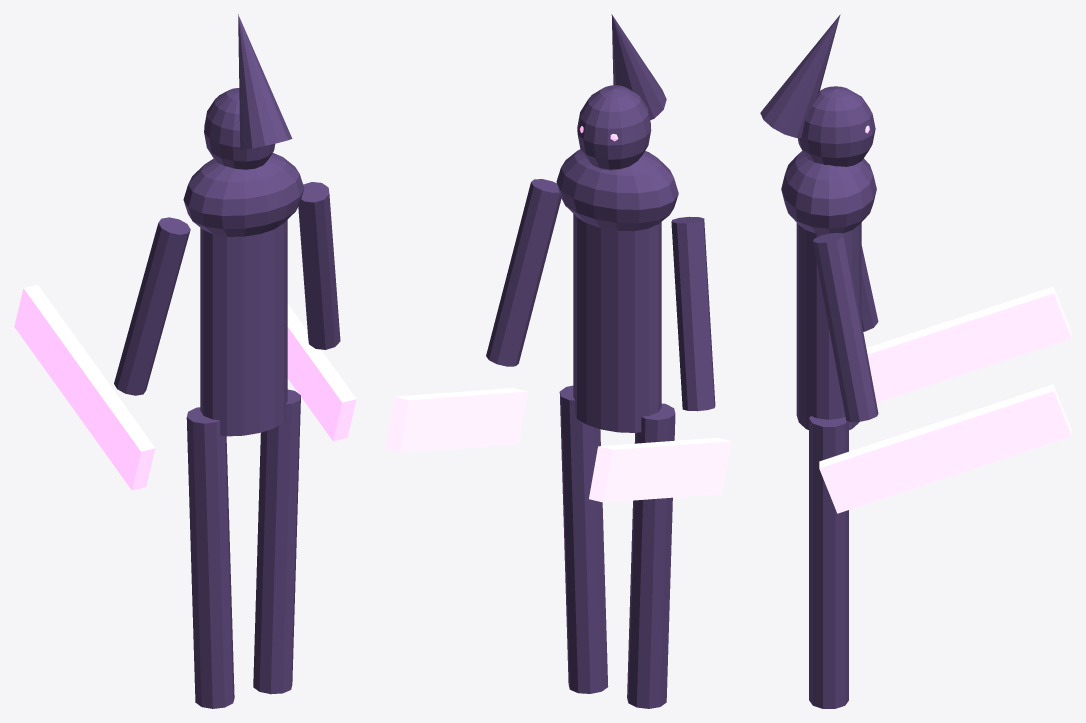
Rendered from vantablade.glb.
3 views of the same model, side by side, from view 1: azimuth 30°, elevation 25°; view 2: azimuth 150°, elevation 25°; view 3: azimuth 270°, elevation 25° (orthographic).
Parts seen in each view (by area): view 1: vantablade; view 2: vantablade; view 3: vantablade.
Part boxes in pixels (left/top/right/bottom): vantablade: left=14, top=14, right=356, bottom=708; vantablade: left=385, top=14, right=731, bottom=708; vantablade: left=760, top=14, right=1071, bottom=708.
Bounding box in the file's own units: 0.7698 × 2.23 × 0.9368.
